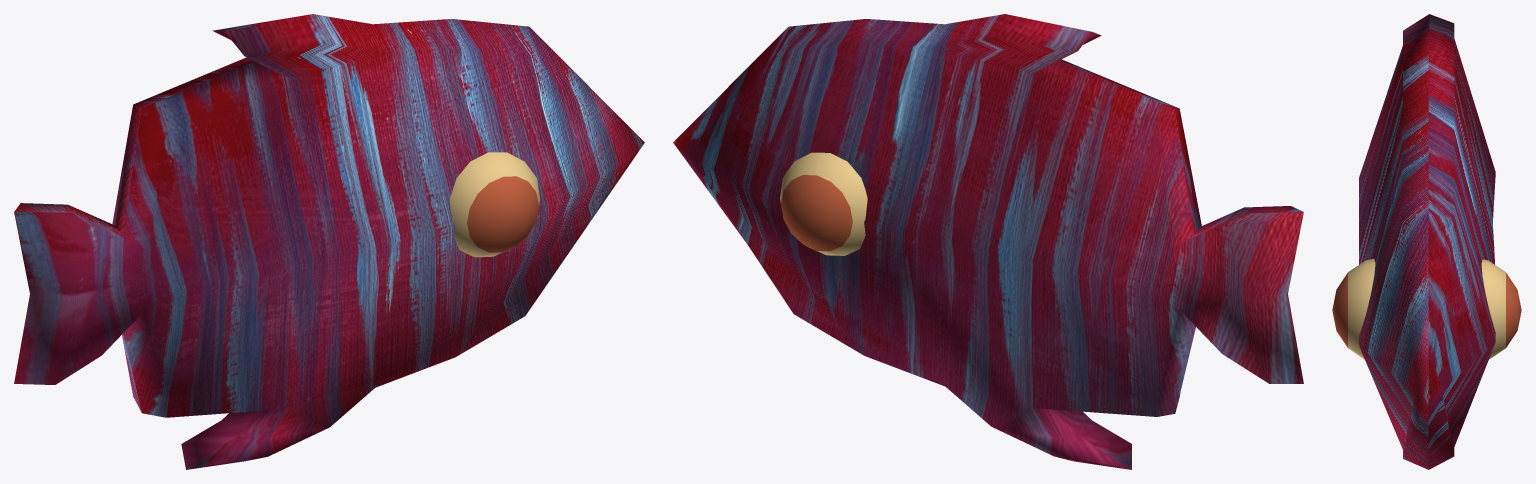
Rendered from purplefish.fbx.
The picture shows the model from 3 angles, left to right: view 1: azimuth 30°, elevation 25°; view 2: azimuth 150°, elevation 25°; view 3: azimuth 270°, elevation 25°; orthographic projection. The views are drawn at different scales.
Parts seen in each view (by area): view 1: Plane.002, Sphere.002; view 2: Plane.002, Sphere.002; view 3: Plane.002, Sphere.002.
Boxes of the visible parts, box(x1,y1,x2,y2) form: Plane.002: box(14, 14, 644, 469); Sphere.002: box(449, 152, 539, 257); Plane.002: box(673, 14, 1303, 469); Sphere.002: box(780, 152, 867, 255); Plane.002: box(1359, 14, 1495, 469); Sphere.002: box(1332, 259, 1521, 359).
Bounding box in the file's own units: 852 × 561 × 241.
Materials: 3 (1 with a texture image).
